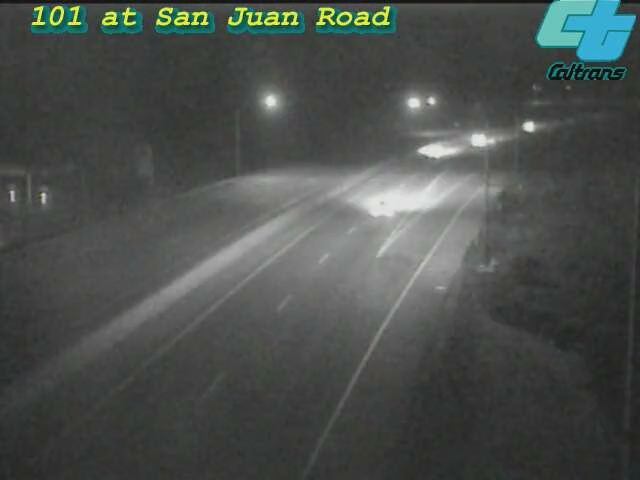vehicle: (346, 170, 426, 250), (504, 102, 554, 152), (455, 115, 505, 165), (412, 127, 462, 177)
